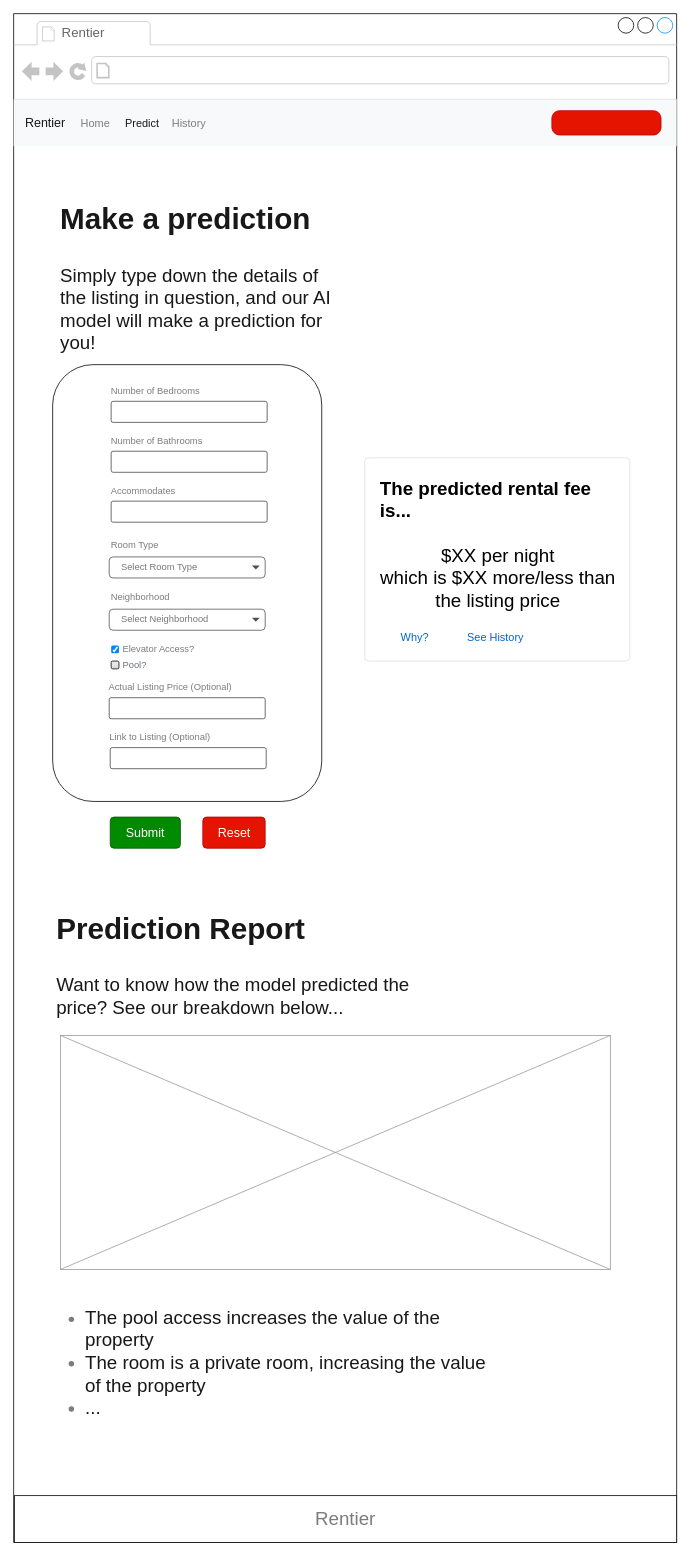
This 690x1556 diagram has some shape labels left out. Here are the shapes that lost their labels. From the top down, the centre of each, then its label:
At (212,70): "https://www.rentier.io/predict".
At (606,122): "Logout".
